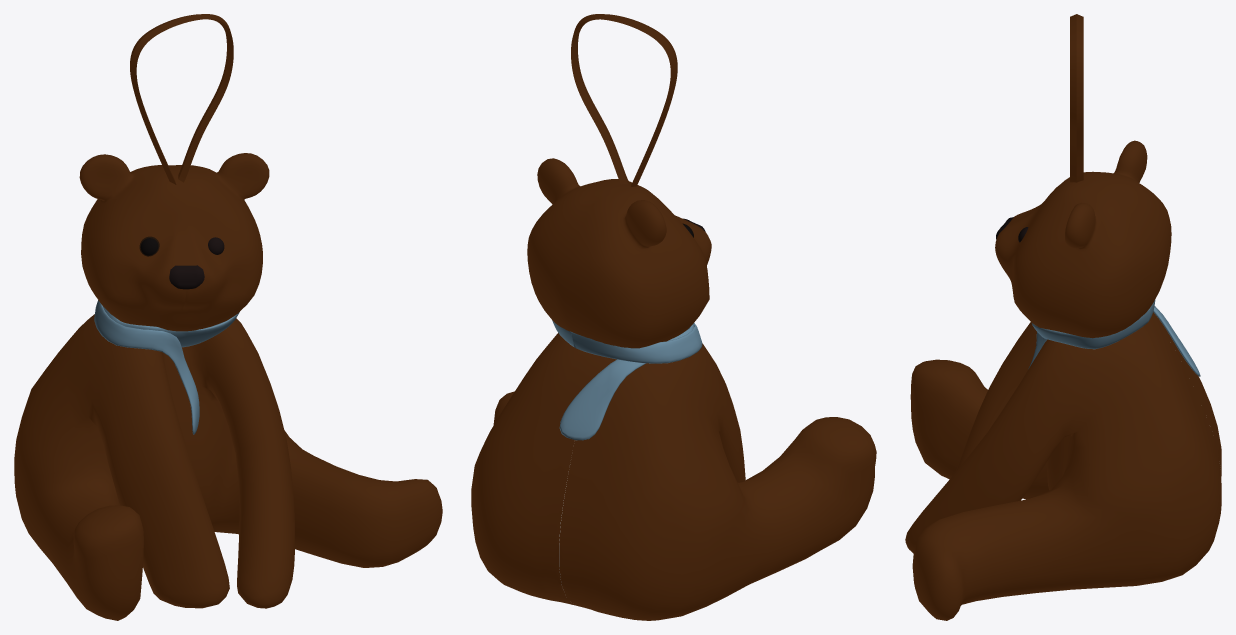
The model's file is bear_brown_hooked.dae.
3 views of the same model, side by side, from view 1: azimuth 30°, elevation 25°; view 2: azimuth 150°, elevation 25°; view 3: azimuth 270°, elevation 25° (orthographic). The views are drawn at different scales.
Visible parts, largest first — view 1: polySurface74, polySurface69, polySurface68, polySurface70, polySurface86; view 2: polySurface74, polySurface69, polySurface68, polySurface70, polySurface86; view 3: polySurface74, polySurface68, polySurface69, polySurface86, polySurface70.
Boxes of the visible parts, box(x1,y1,x2,y2) form: polySurface74: box(14, 314, 442, 620); polySurface69: box(79, 154, 186, 331); polySurface68: box(173, 153, 269, 331); polySurface70: box(94, 300, 239, 434); polySurface86: box(130, 14, 233, 184); polySurface74: box(471, 333, 876, 620); polySurface69: box(557, 183, 711, 348); polySurface68: box(527, 158, 682, 331); polySurface70: box(552, 320, 702, 440); polySurface86: box(571, 14, 677, 186); polySurface74: box(905, 312, 1221, 620); polySurface68: box(995, 180, 1159, 338); polySurface69: box(1010, 140, 1171, 308); polySurface86: box(1070, 14, 1083, 182); polySurface70: box(1028, 299, 1200, 376).
Size of the model in its own units: 19.93 by 28.2 by 15.19.
